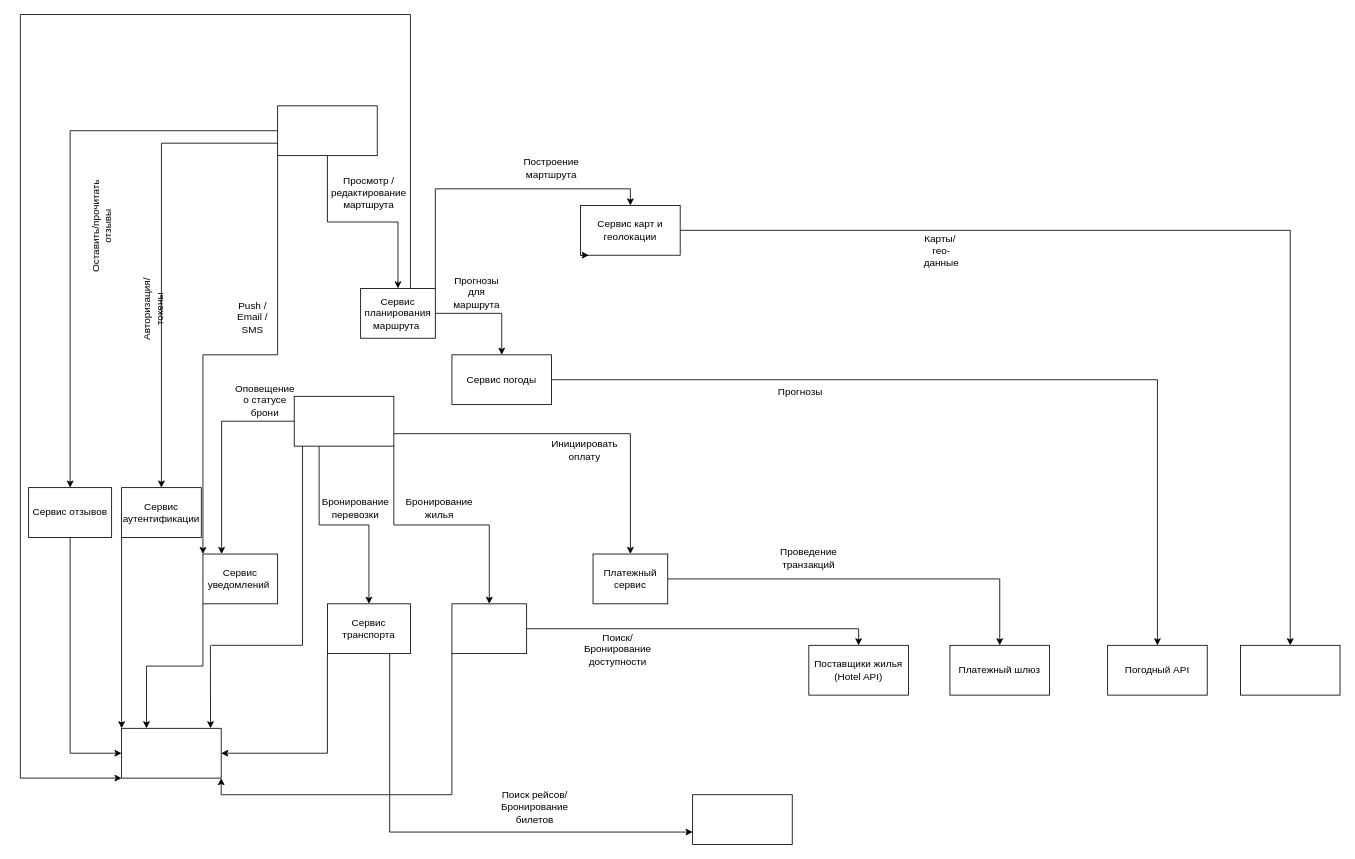
Image size: 1355x859. Some labels were removed from this diagram. The box of each missing label's shape, as (x1, y1, x2, y2) in pixels:
Авиакомпании / Транспортные API: (692, 794, 792, 845)
База данных: (121, 727, 221, 778)
Веб-приложение: (277, 105, 377, 156)
Картографический API: (1240, 644, 1340, 695)
Сервис бронирования: (293, 395, 394, 446)
Сервис проживания: (451, 603, 527, 654)
